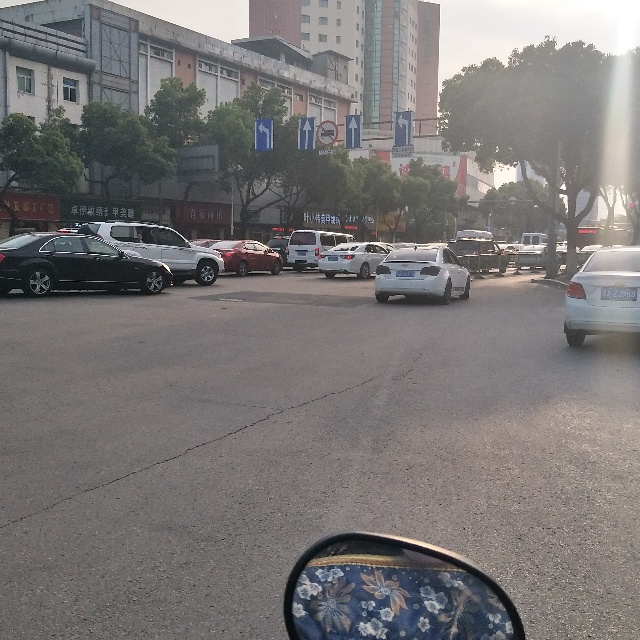left: (395, 111, 412, 147), (254, 120, 275, 149)
straight: (345, 114, 360, 149), (299, 118, 313, 149)
